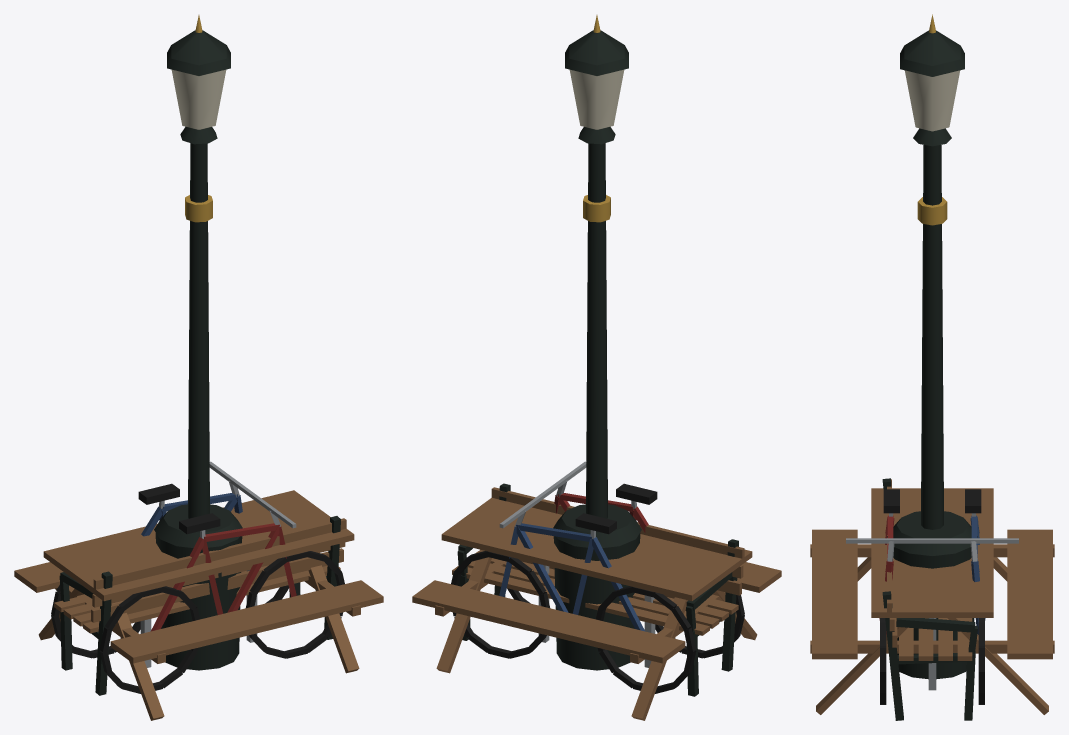
File: props.glb
3 views of the same model, side by side, from view 1: azimuth 30°, elevation 25°; view 2: azimuth 150°, elevation 25°; view 3: azimuth 270°, elevation 25° (orthographic).
Visible parts, largest first — view 1: picnic, lamp, bikes, bench, bin; view 2: picnic, lamp, bikes, bench, bin; view 3: picnic, lamp, bench, bin, bikes.
Boxes of the visible parts, x1=… form: picnic: x1=14, y1=490, x2=383, y2=720; lamp: x1=167, y1=15, x2=230, y2=518; bikes: x1=51, y1=461, x2=344, y2=693; bench: x1=54, y1=516, x2=346, y2=695; bin: x1=154, y1=504, x2=242, y2=670; picnic: x1=412, y1=497, x2=781, y2=720; lamp: x1=565, y1=15, x2=628, y2=518; bikes: x1=451, y1=461, x2=744, y2=693; bench: x1=452, y1=483, x2=744, y2=696; bin: x1=553, y1=504, x2=641, y2=670; picnic: x1=810, y1=488, x2=1054, y2=714; lamp: x1=900, y1=14, x2=964, y2=529; bench: x1=882, y1=478, x2=977, y2=720; bin: x1=887, y1=511, x2=977, y2=679; bikes: x1=846, y1=489, x2=1018, y2=704.
Bounding box in the file's own units: 1.8 × 4.4 × 1.5.
